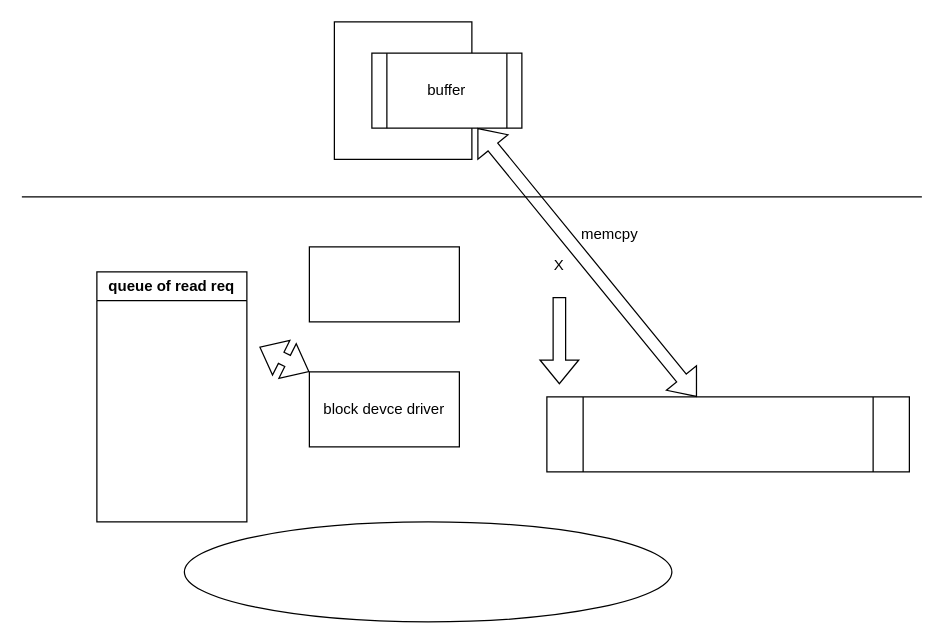
This 945x644 diagram has some shape labels left out. The shapes that lost their labels are listed below. From the top down, each one's box as (x1, y1, x2, y2) in pixels, then its label:
(308, 246, 459, 322): file system
(183, 521, 672, 622): disk: read from disk to address x
